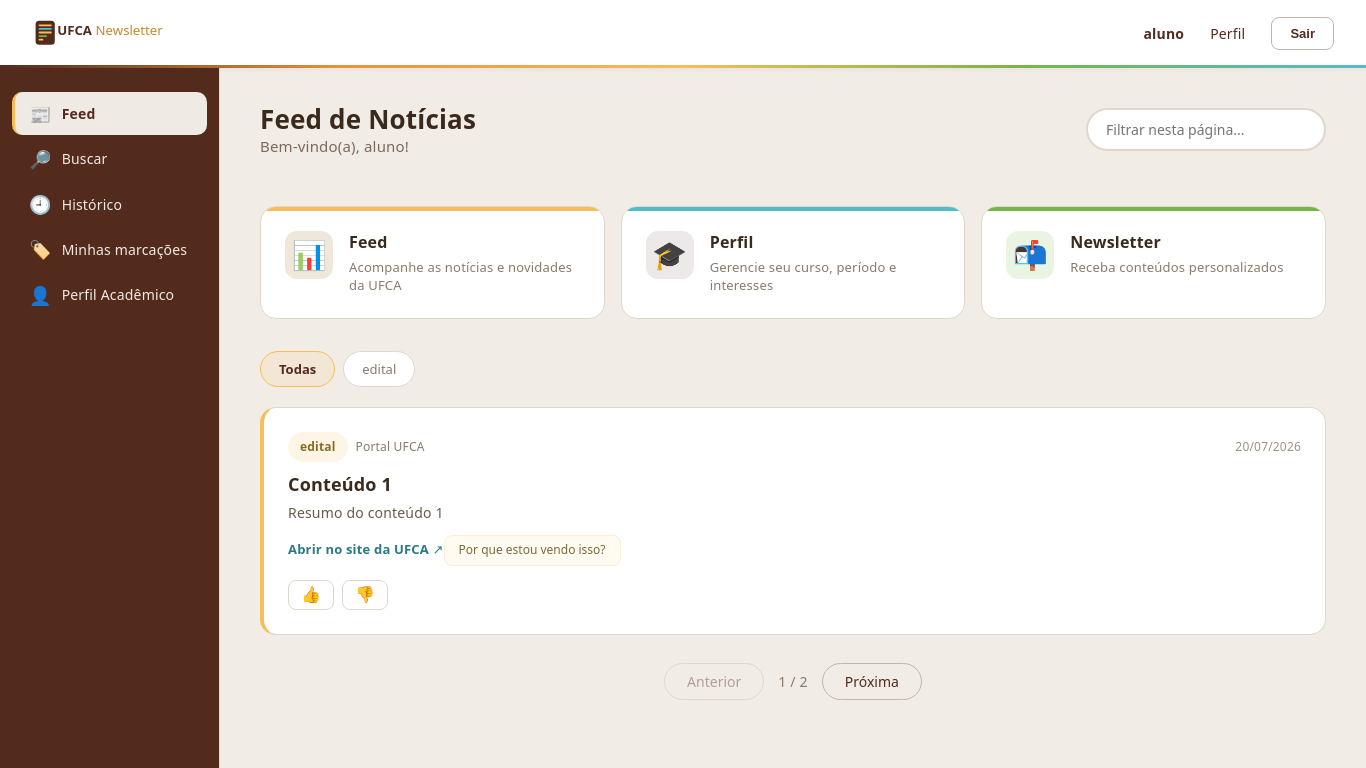
it: Dashboard — paginação › carrega a página seguinte pela API ao clicar em Próxima
This screenshot has width=1366, height=768.
Expected: the heading "Conteúdo 1" is shown, [288,472,392,496]
Expected: the button "Anterior" is disabled, [664,663,764,700]
Click the button "Próxima" at [872, 682], box [822,663,922,700]
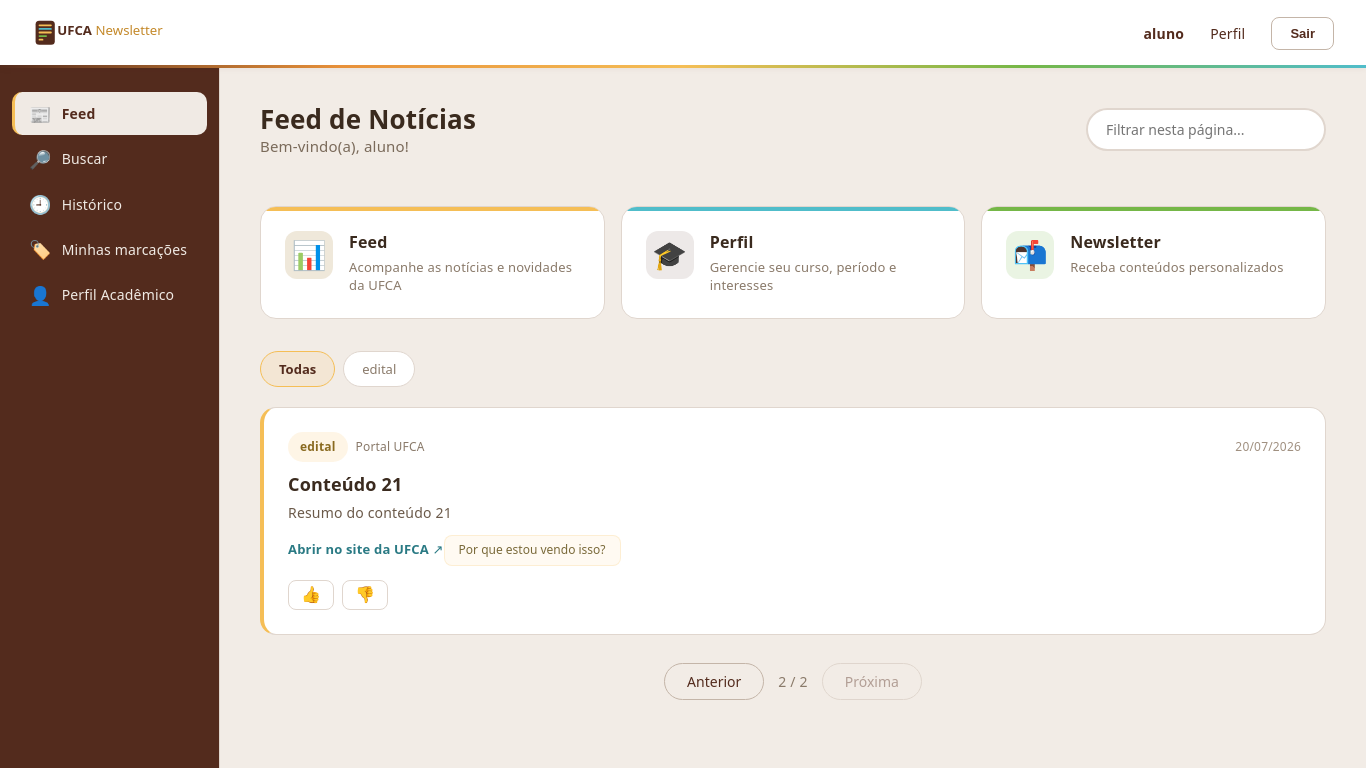
Result: the heading "Conteúdo 21" is shown at [288,472,402,496]
Result: the text "2 / 2" is shown at [778,670,808,693]
Result: the button "Próxima" is disabled at [822,663,922,700]
